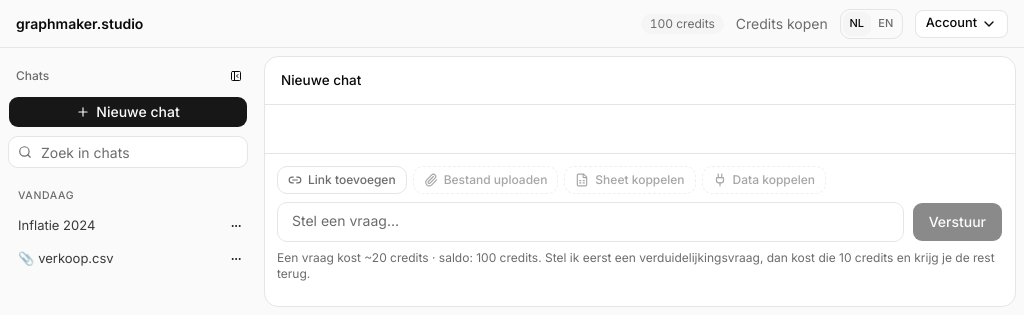
it: Workspace — mixed CBS + dataset thread list (ADR 037 D10 invariant) › selecting a dataset thread mounts DatasetChat instead of Chat
Click the button "📎verkoop.csv" at point(115, 259), box [8,243,222,275]
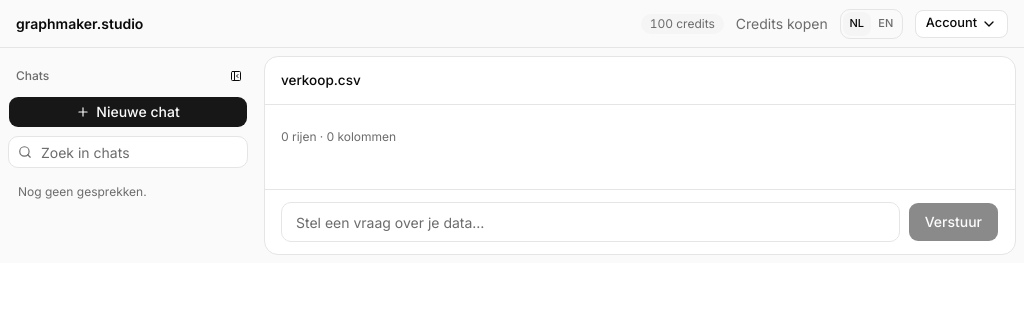
Check: the field with placeholder "Stel een vraag…" is not shown
Check: the field with placeholder "Stel een vraag over je data…" is shown, box [281,202,900,242]
